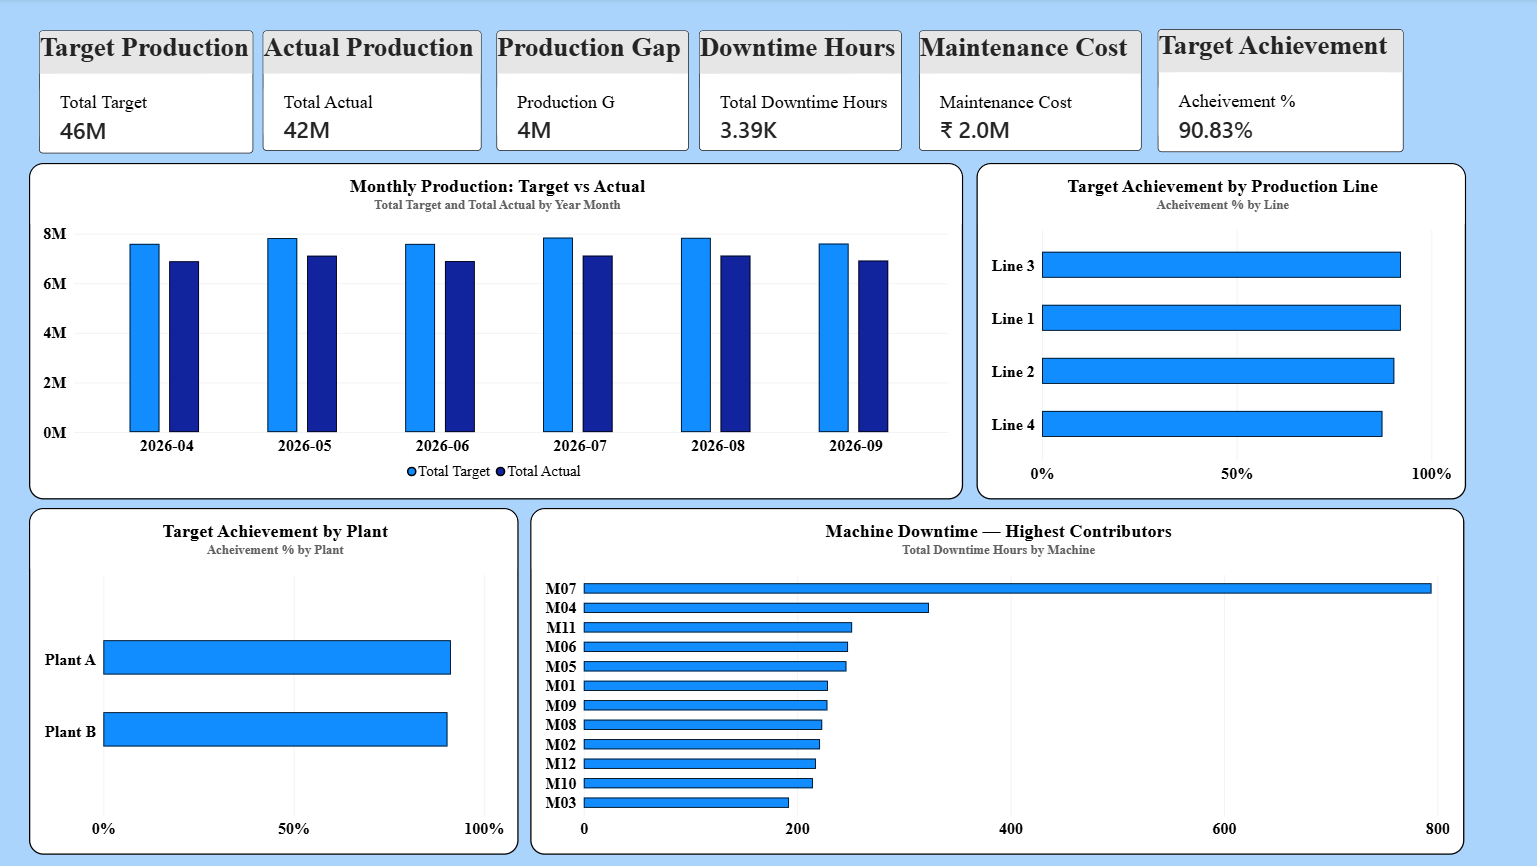

Layout of this report page (visuals, bound fields, positions):
{"tool":"powerbi","page":{"name":"Executive Overview","canvas":[1920,1080],"ordinal":0},"visuals":[{"type":"cardVisual","title":"Target Production","fields":{"Data":["Production cleaned.Total Target"]},"box":[50.4,40.9,266,152.7],"z":0},{"type":"cardVisual","title":"Actual Production","fields":{"Data":["Production cleaned.Total Actual"]},"box":[327.4,40.9,272.3,149.5],"z":1000},{"type":"cardVisual","title":"Target Achievement","fields":{"Data":["Production cleaned.Acheivement %"]},"box":[1440.2,39.4,305.4,152.7],"z":2000},{"type":"cardVisual","title":"Production Gap","fields":{"Data":["Production cleaned.Production G"]},"box":[618.6,40.9,239.3,149.5],"z":3000},{"type":"cardVisual","title":"Downtime Hours","fields":{"Data":["Downtime cleaned.Total Downtime Hours"]},"box":[870.4,40.9,251.8,149.5],"z":4000},{"type":"cardVisual","title":"Maintenance Cost","fields":{"Data":["Maintenance cleaned.Maintenance Cost"]},"box":[1144.3,40.9,277,149.5],"z":5000},{"type":"clusteredBarChart","title":"Target Achievement by Production Line","fields":{"Category":["Production cleaned.Line"],"Y":["Production cleaned.Acheivement %"]},"box":[1215.1,204.6,609.1,418.7],"z":6000},{"type":"barChart","title":"Machine Downtime — Highest Contributors","fields":{"Category":["Machine Master cleaned.Machine"],"Y":["Downtime cleaned.Total Downtime Hours"]},"box":[661.1,634.3,1161.6,431.3],"z":7000},{"type":"clusteredColumnChart","title":"Monthly Production: Target vs Actual","fields":{"Category":["Date.Year Month"],"Y":["Production cleaned.Total Target","Production cleaned.Total Actual"]},"box":[37.8,204.6,1161.6,418.7],"z":8000},{"type":"clusteredBarChart","title":"Target Achievement by Plant","fields":{"Category":["Production cleaned.Plant"],"Y":["Production cleaned.Acheivement %"]},"box":[37.8,634.3,609.1,431.3],"z":9000}]}

Visuals, with their boxes in screenshot pixels (x1, y1, x2, y2), scaled from the page's 1920x1080 canvas onto the 1537x866 screenshot:
"Target Production" cardVisual: crop(40, 33, 253, 155)
"Actual Production" cardVisual: crop(262, 33, 480, 153)
"Target Achievement" cardVisual: crop(1153, 32, 1397, 154)
"Production Gap" cardVisual: crop(495, 33, 687, 153)
"Downtime Hours" cardVisual: crop(697, 33, 898, 153)
"Maintenance Cost" cardVisual: crop(916, 33, 1138, 153)
"Target Achievement by Production Line" clusteredBarChart: crop(973, 164, 1460, 500)
"Machine Downtime — Highest Contributors" barChart: crop(529, 509, 1459, 854)
"Monthly Production: Target vs Actual" clusteredColumnChart: crop(30, 164, 960, 500)
"Target Achievement by Plant" clusteredBarChart: crop(30, 509, 518, 854)
